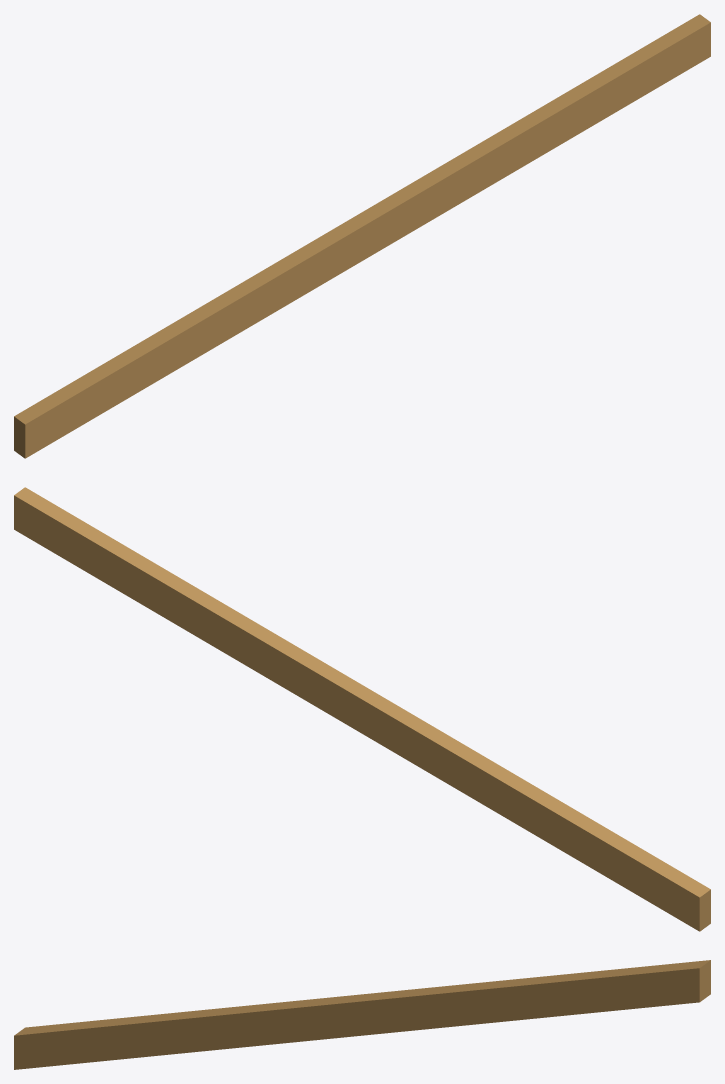
3 renders of one model, top to bottom at view 1: azimuth 30°, elevation 25°; view 2: azimuth 150°, elevation 25°; view 3: azimuth 330°, elevation 25°, orthographic.
Visible parts, largest first — view 1: L4-6-S4-3E5-M08; view 2: L4-6-S4-3E5-M08; view 3: L4-6-S4-3E5-M08.
Boxes of the visible parts, x1,y1,x2,y2 form: L4-6-S4-3E5-M08: (14, 14, 710, 458); L4-6-S4-3E5-M08: (14, 487, 710, 931); L4-6-S4-3E5-M08: (14, 960, 710, 1069).
Bounding box in the file's own units: 1.59 × 0.5969 × 0.045.
